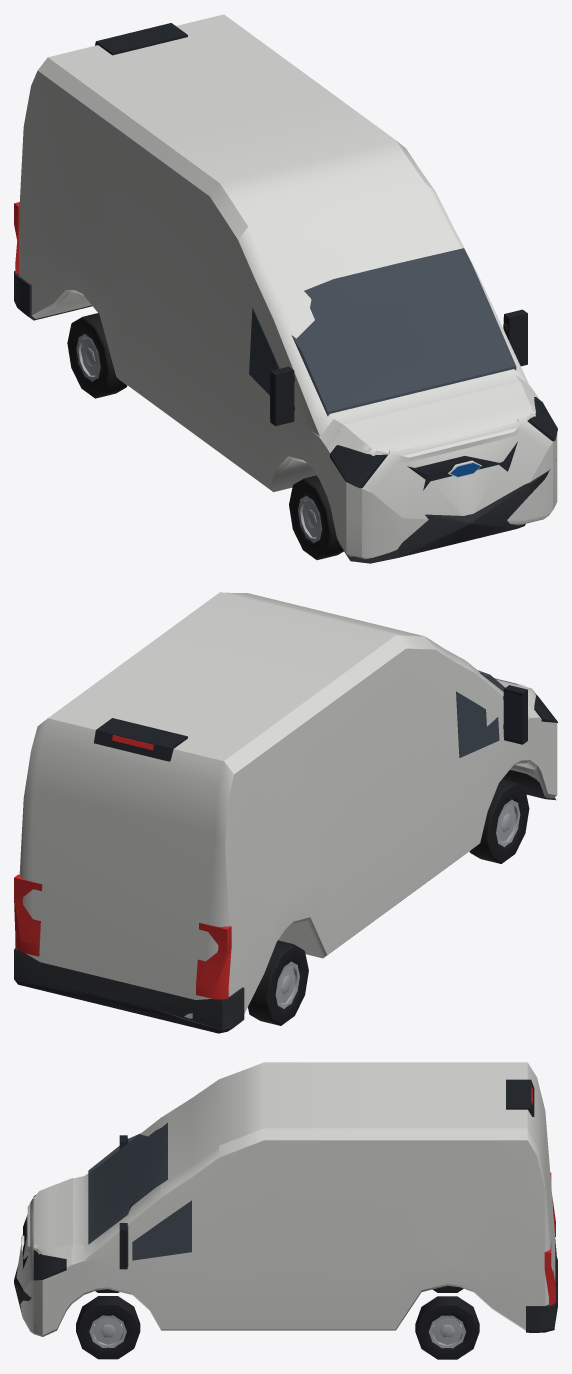
Rendered from ford_transit_148_camper.far.glb.
3 renders of one model, top to bottom at view 1: azimuth 30°, elevation 25°; view 2: azimuth 150°, elevation 25°; view 3: azimuth 270°, elevation 25°, orthographic. The views are drawn at different scales.
Parts seen in each view (by area): view 1: ford_transit_148_camper, hood, rear_right_wheel, front_right_wheel, front_door_right, front_door_left; view 2: ford_transit_148_camper, rear_right_wheel, front_door_right, front_right_wheel; view 3: ford_transit_148_camper, front_left_wheel, rear_left_wheel, hood, front_door_left.
Boxes of the visible parts, x1=… form: ford_transit_148_camper: x1=14, y1=14, x2=557, y2=563; hood: x1=340, y1=381, x2=535, y2=462; rear_right_wheel: x1=67, y1=313, x2=127, y2=398; front_right_wheel: x1=289, y1=475, x2=343, y2=559; front_door_right: x1=249, y1=307, x2=294, y2=426; front_door_left: x1=503, y1=309, x2=527, y2=366; ford_transit_148_camper: x1=14, y1=592, x2=557, y2=1033; rear_right_wheel: x1=248, y1=940, x2=308, y2=1025; front_door_right: x1=456, y1=685, x2=527, y2=757; front_right_wheel: x1=469, y1=779, x2=529, y2=863; ford_transit_148_camper: x1=14, y1=1062, x2=557, y2=1336; front_left_wheel: x1=76, y1=1296, x2=140, y2=1359; rear_left_wheel: x1=415, y1=1296, x2=479, y2=1359; hood: x1=27, y1=1178, x2=72, y2=1254; front_door_left: x1=119, y1=1200, x2=191, y2=1269.
Size of the model in its own units: 2.47 by 2.79 by 6.01.
